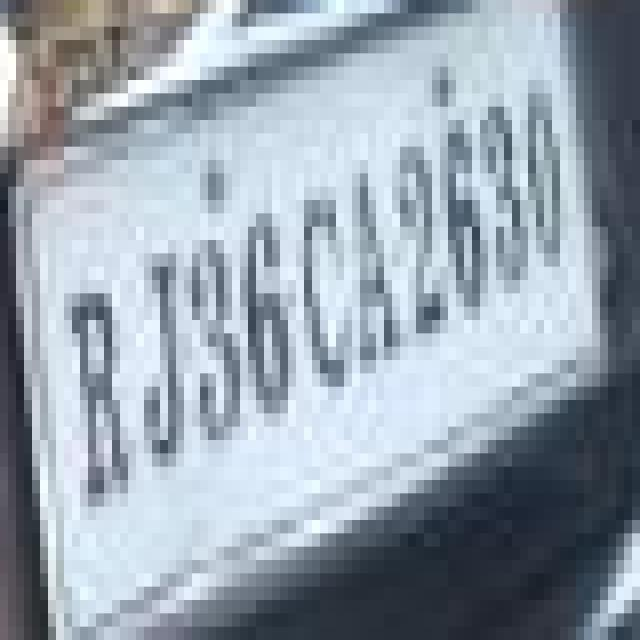plate: (40, 26, 624, 640)
